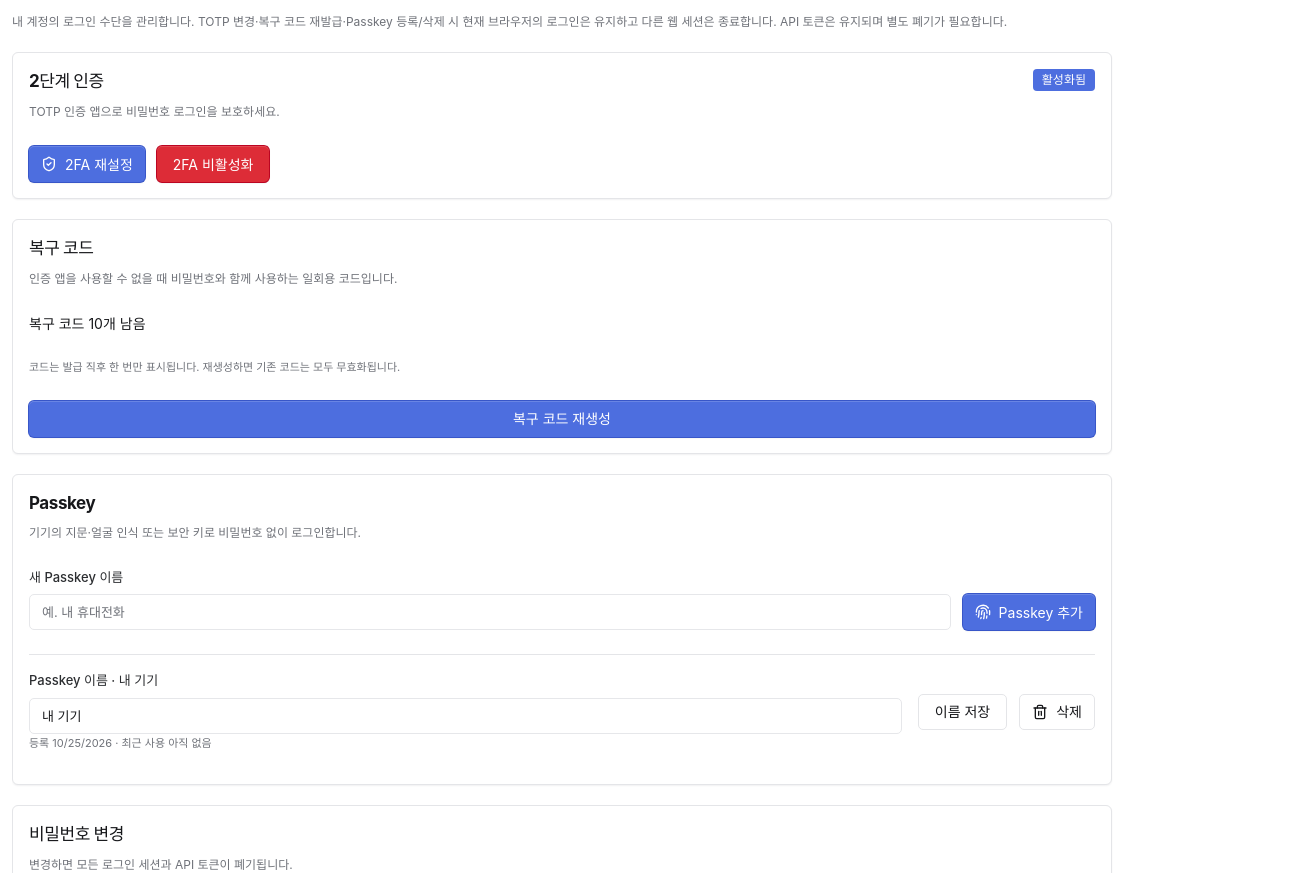
Test case: 복구 코드 재생성 후 설정 화면과 새 CSRF를 유지한다
Expected: the text "복구 코드 10개 남음" is shown, x1=29 y1=315 x2=146 y2=332
Step 1. Click the button "복구 코드 재생성" → (562, 419), box x1=29 y1=401 x2=1095 y2=437
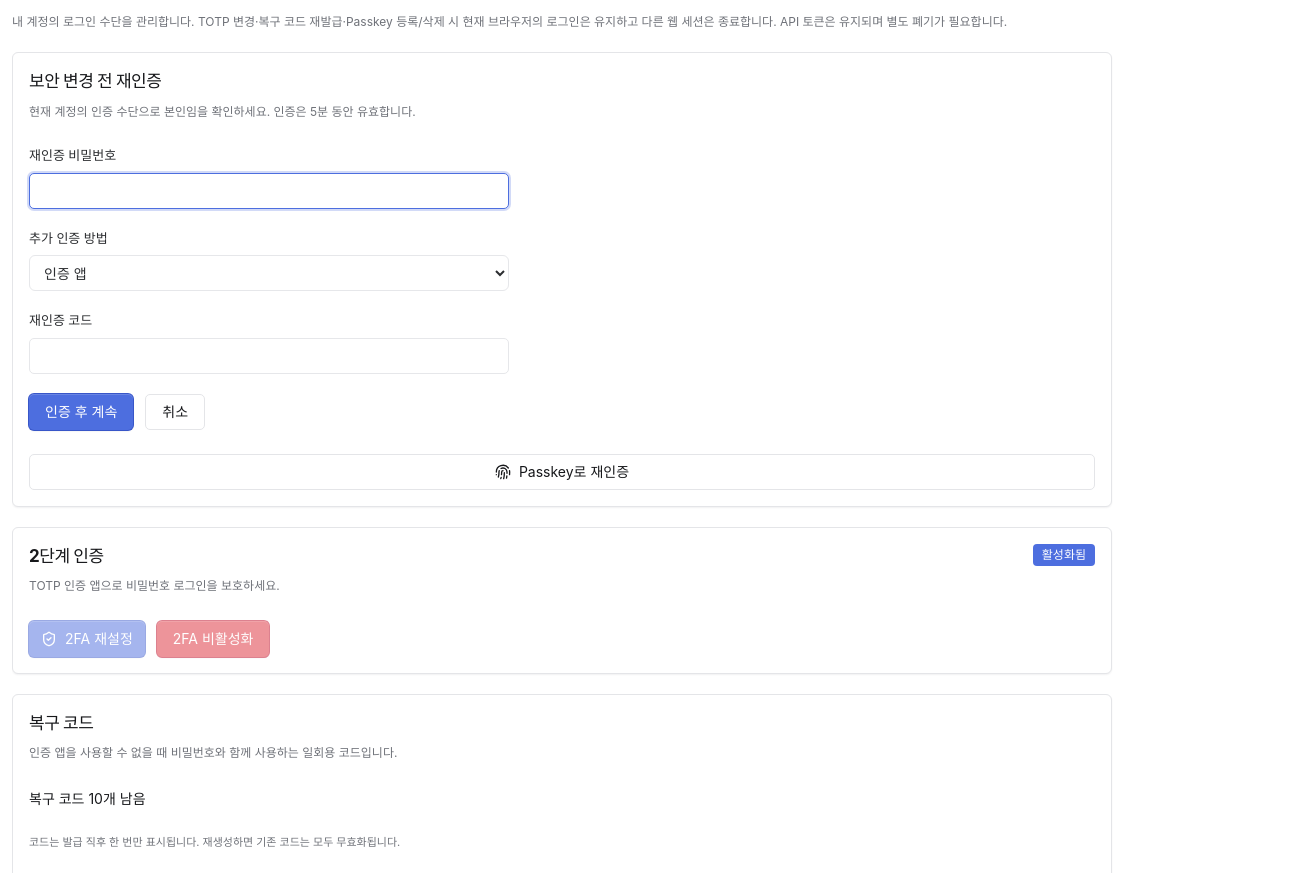
Step 2. Type "test-password" into the password field labelled "재인증 비밀번호" → (269, 191), box x1=29 y1=173 x2=509 y2=209
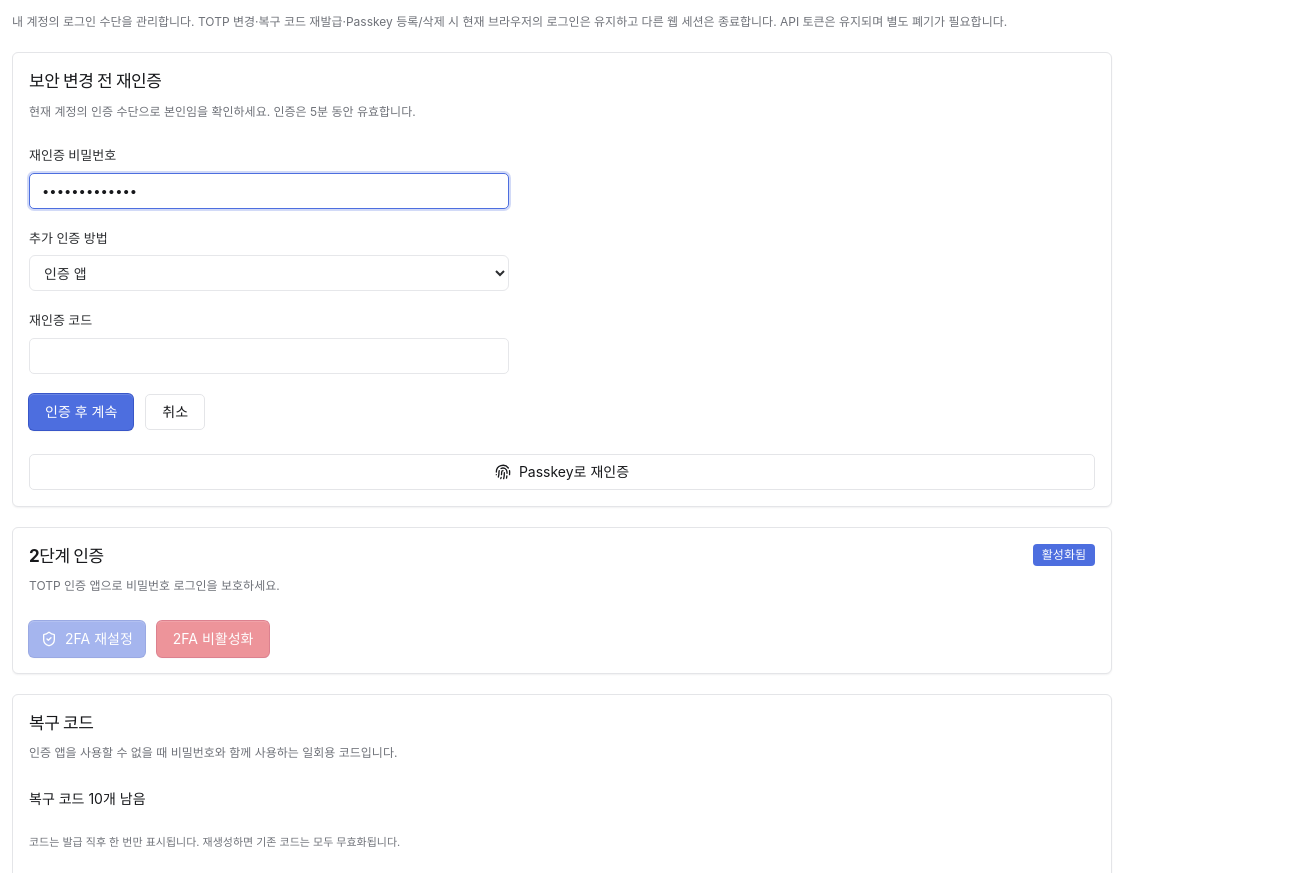
Step 3. Type "123456" into the field labelled "재인증 코드" → (269, 356), box x1=29 y1=338 x2=509 y2=374
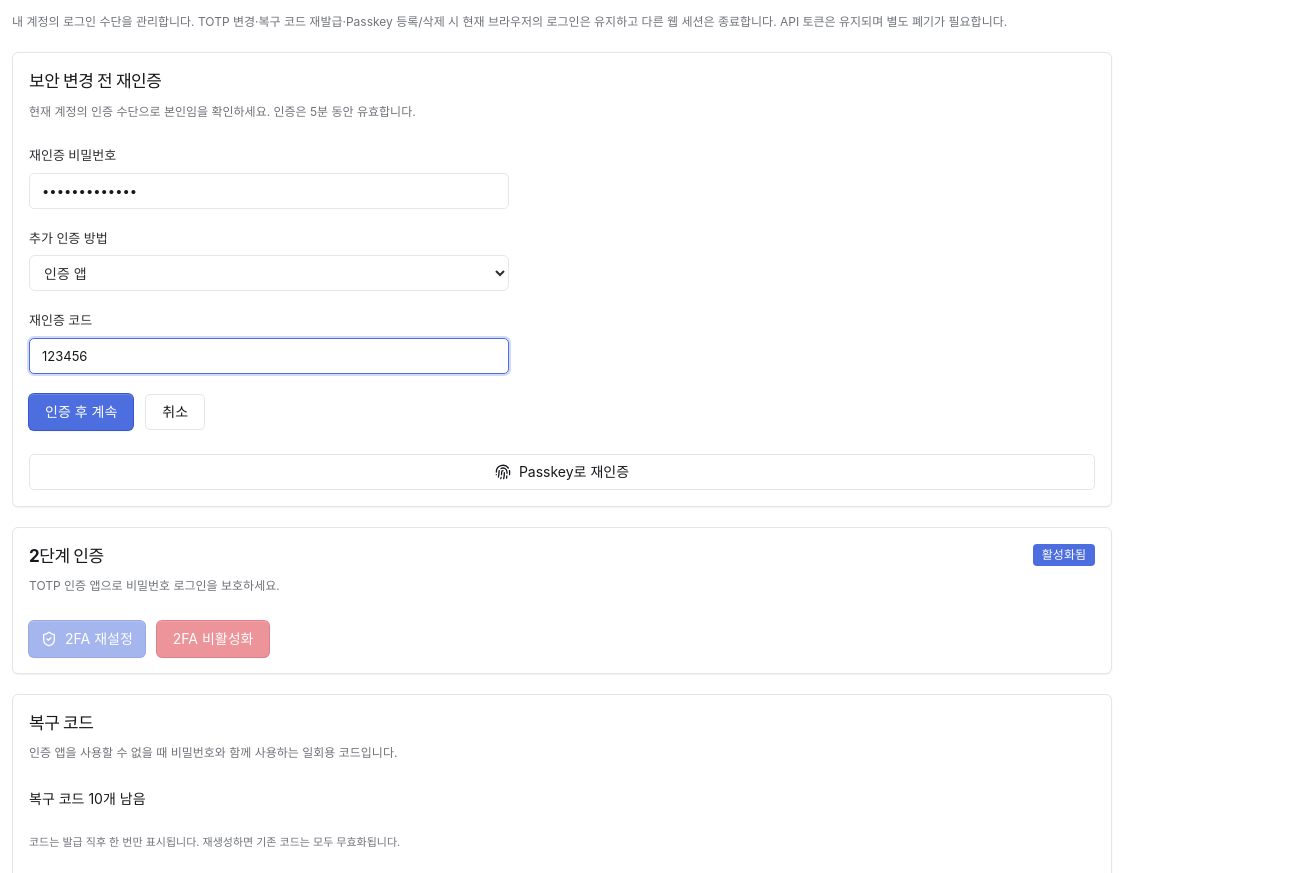
Step 4. Click the button "인증 후 계속" → (81, 412), box x1=29 y1=394 x2=133 y2=430
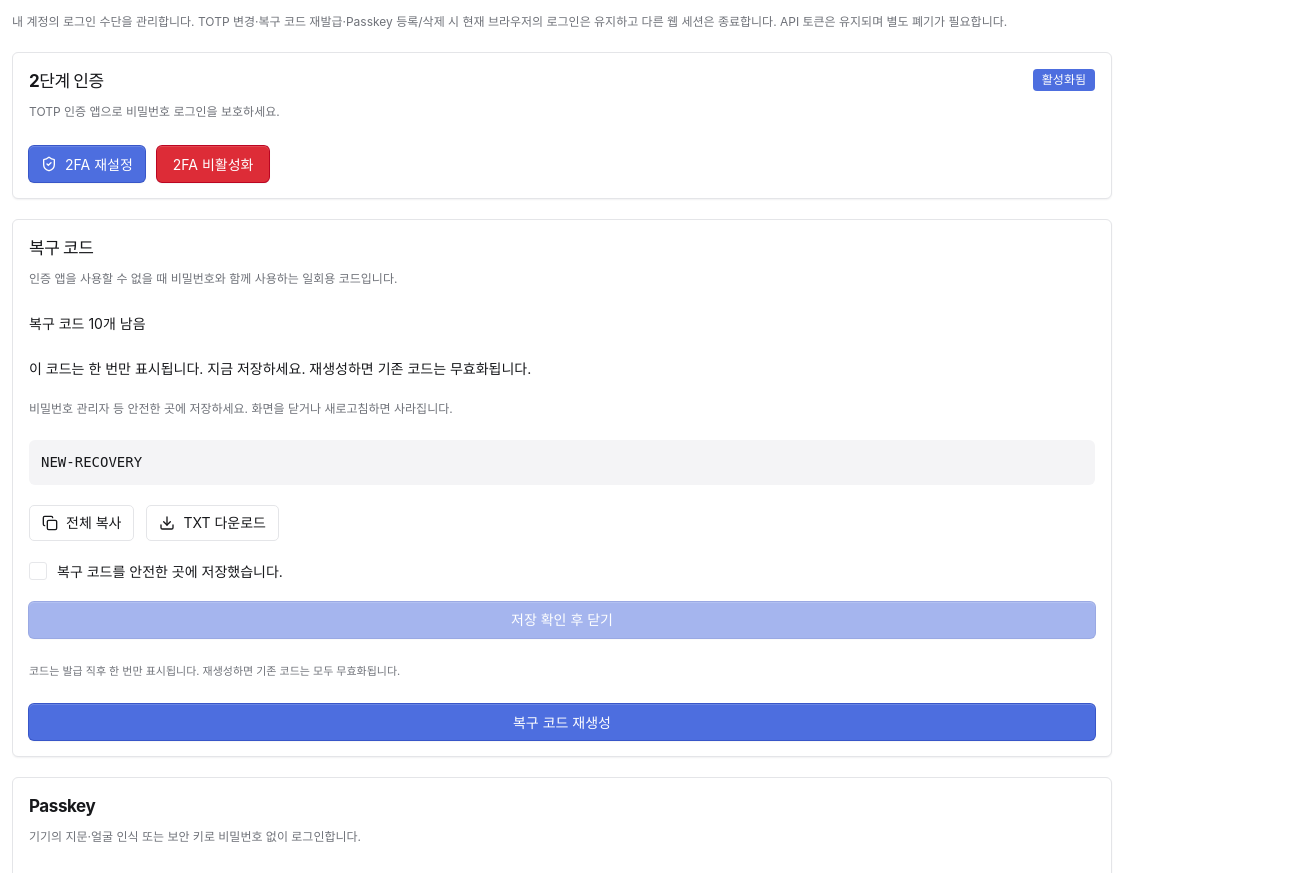
Expected: the heading "2단계 인증" is shown, x1=29 y1=71 x2=104 y2=91
Expected: the text "NEW-RECOVERY" is shown, x1=29 y1=440 x2=1095 y2=485
